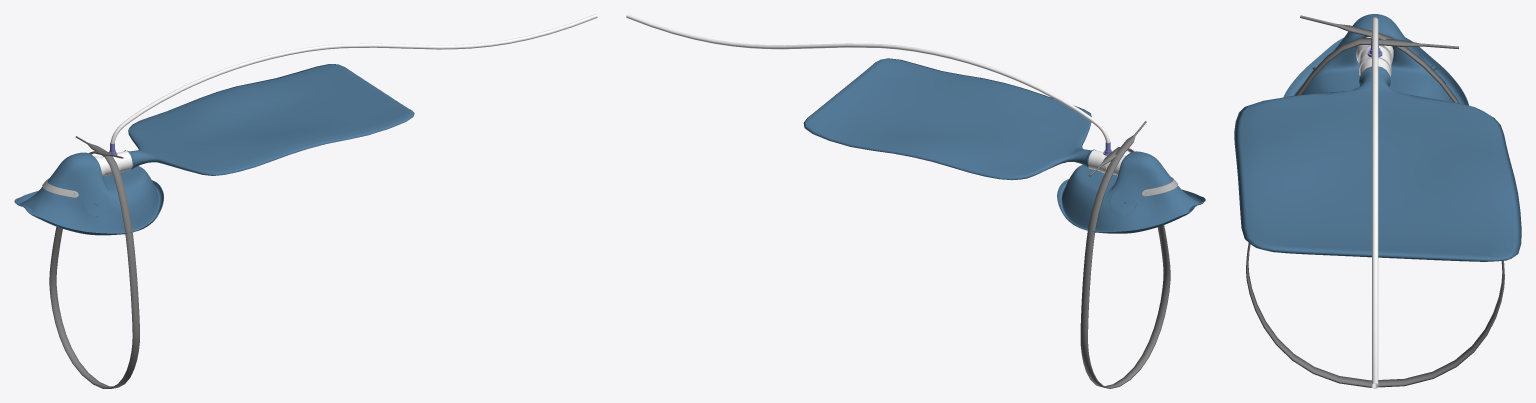
File: mask.fbx
The picture shows the model from 3 angles, left to right: view 1: azimuth 30°, elevation 25°; view 2: azimuth 150°, elevation 25°; view 3: azimuth 270°, elevation 25°; orthographic projection. The views are drawn at different scales.
Parts seen in each view (by area): view 1: Bag, Mask, Headband, Tube, Pipe; view 2: Bag, Mask, Headband, Tube; view 3: Bag, Mask, Headband, Tube, Pipe.
Boxes of the visible parts, x1,y1,x2,y2 form: Bag: (124, 64, 414, 175); Mask: (14, 152, 163, 235); Headband: (49, 136, 139, 388); Tube: (110, 14, 597, 143); Pipe: (94, 150, 132, 176); Bag: (803, 58, 1095, 180); Mask: (1057, 151, 1205, 233); Headband: (1080, 121, 1170, 388); Tube: (626, 14, 1109, 142); Bag: (1234, 66, 1521, 261); Mask: (1283, 14, 1469, 105); Headband: (1246, 15, 1504, 387); Tube: (1372, 17, 1378, 388); Pipe: (1356, 37, 1393, 76).
Size of the model in its own units: 23.79 by 11.26 by 6.7.
